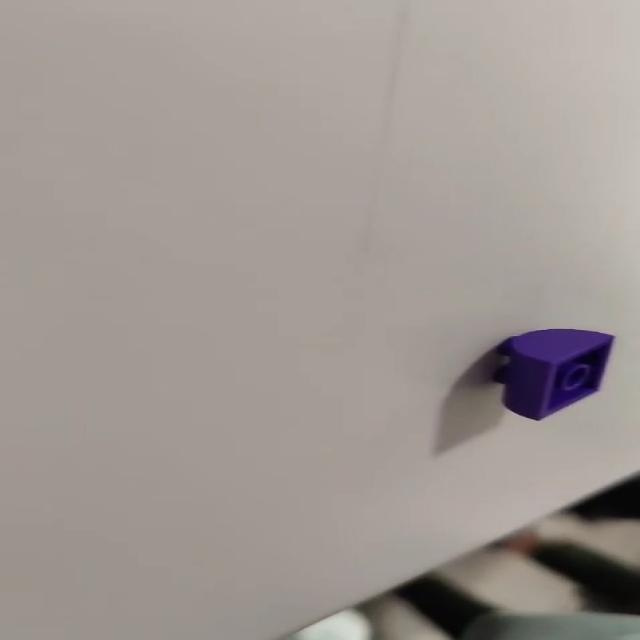H2x2x1: (498, 325, 616, 420)
